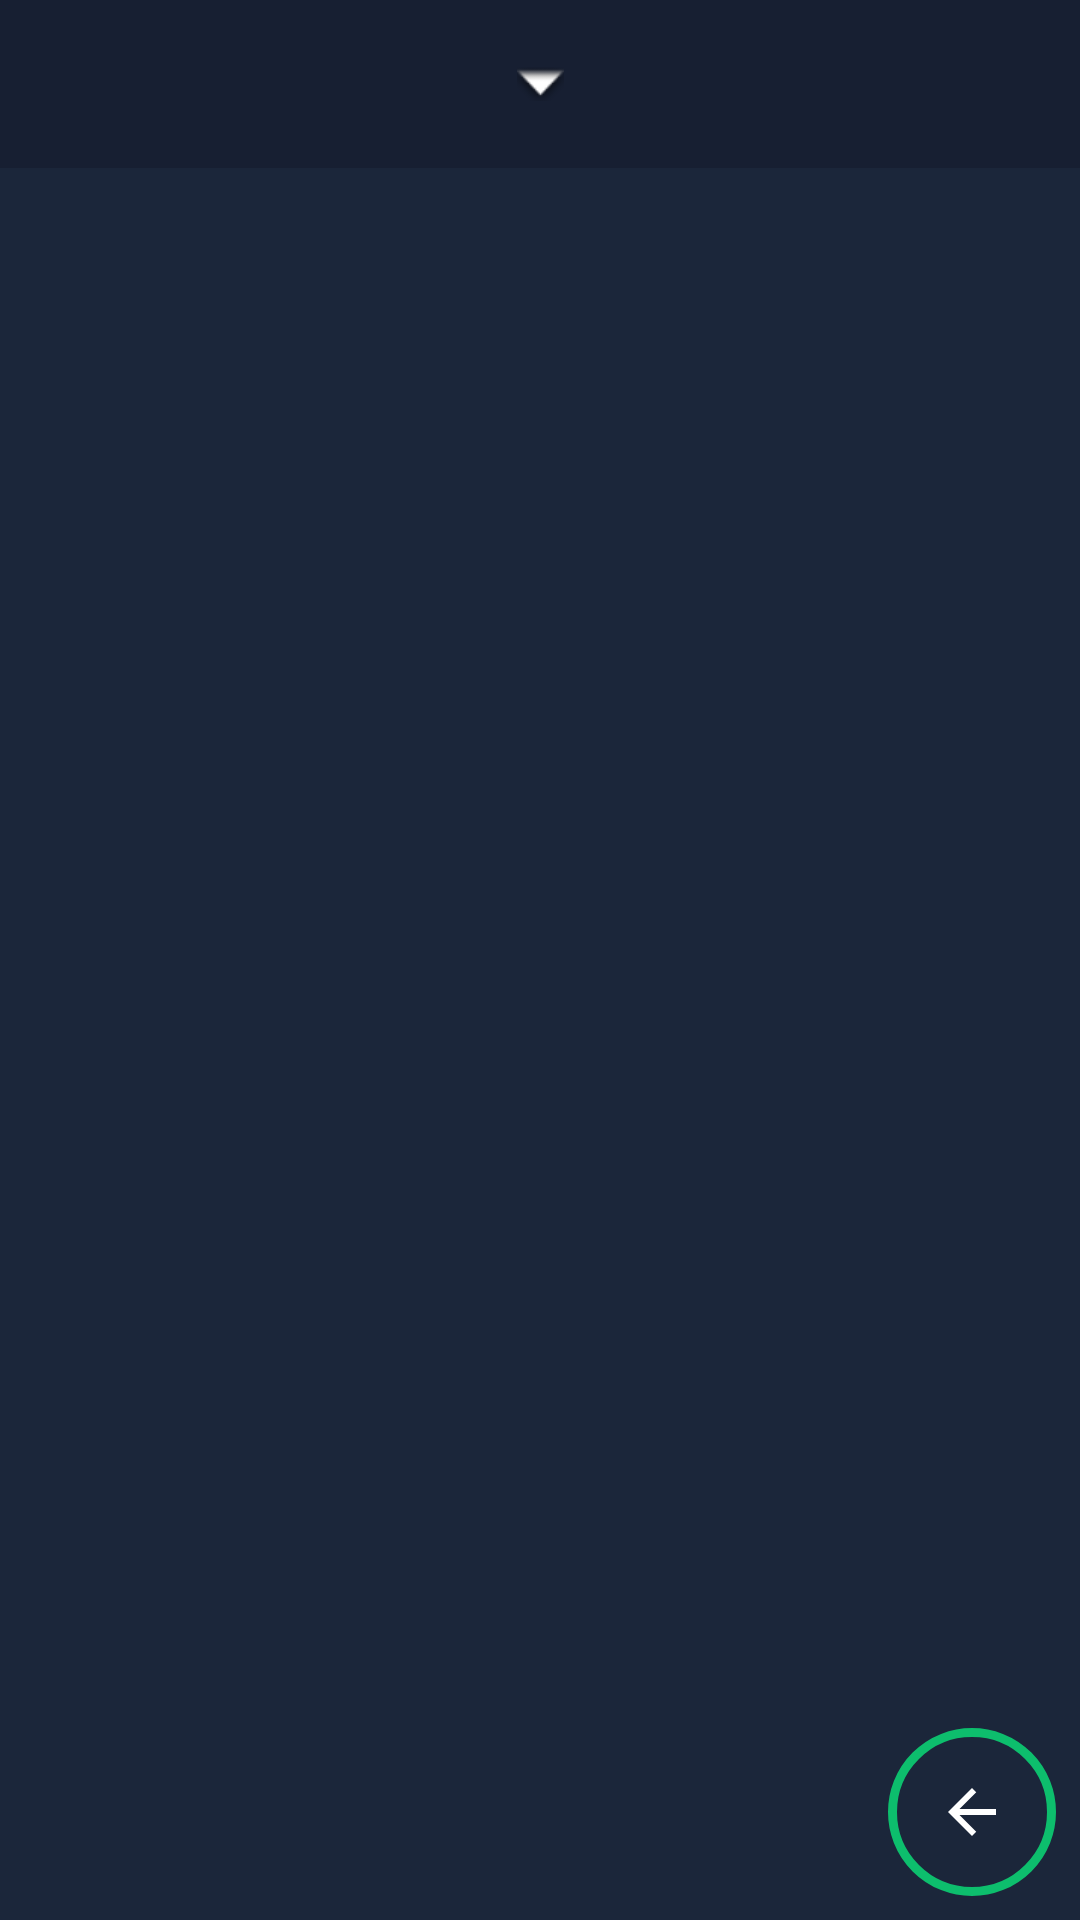

Where to tap for icons on this 1080w x 1920h app screen, as (x,y):
arrow back: (972,1812)
arrow down float: (540,82)
